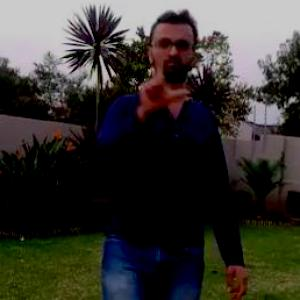land_hand: (134, 44, 190, 114)
